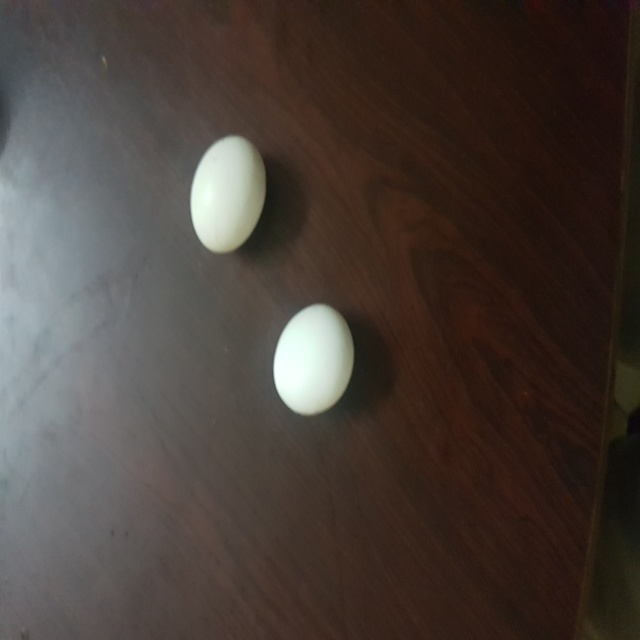eggs: (186, 131, 275, 260), (269, 301, 363, 420)
